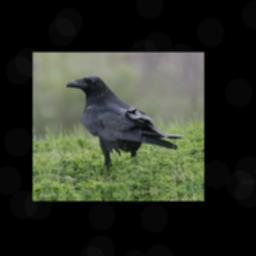Crow: (65, 68, 188, 176)
